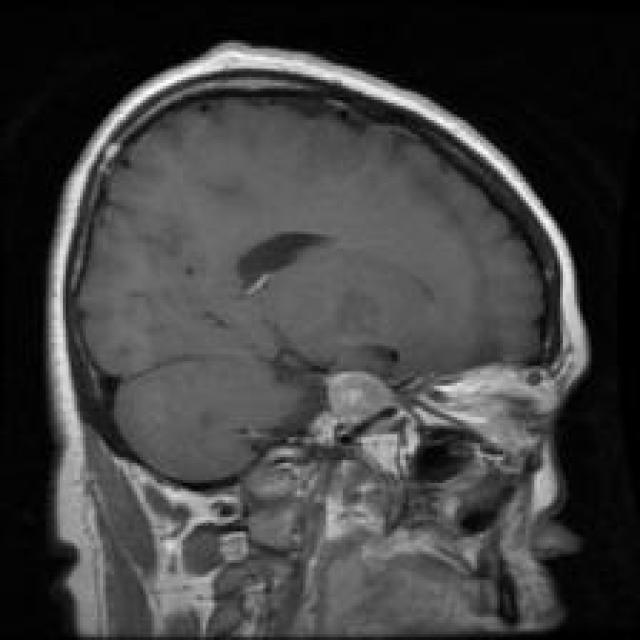pituitary_tumor: (294, 356, 408, 449)
